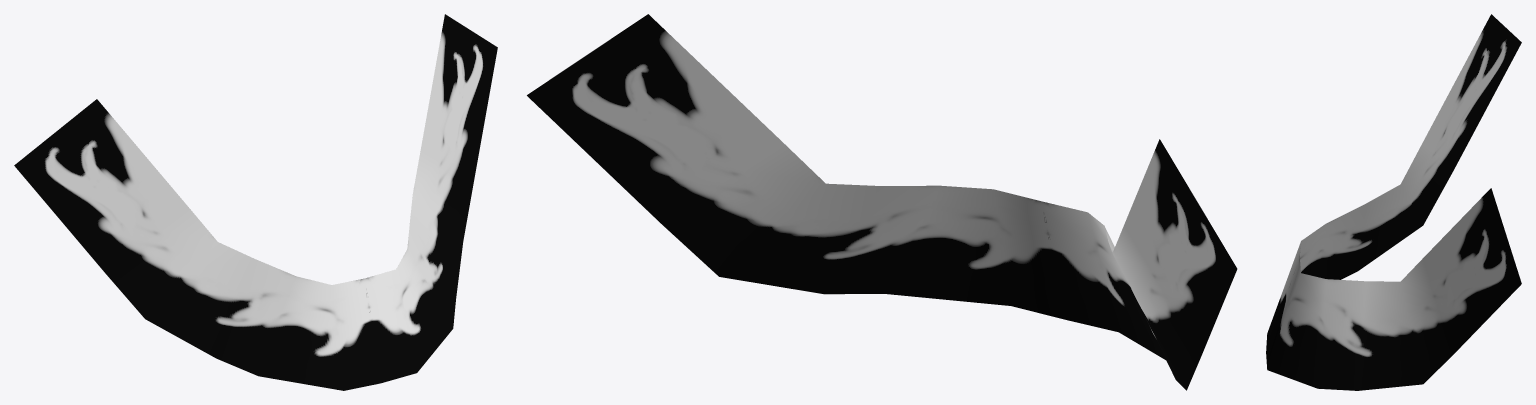
File: FxMesh_LH_beard_2.fbx
The picture shows the model from 3 angles, left to right: view 1: azimuth 30°, elevation 25°; view 2: azimuth 150°, elevation 25°; view 3: azimuth 270°, elevation 25°; orthographic projection. The views are drawn at different scales.
Visible parts, largest first — view 1: FxMesh_LH_beard_2; view 2: FxMesh_LH_beard_2; view 3: FxMesh_LH_beard_2.
Part boxes in pixels (left/top/right/bottom): FxMesh_LH_beard_2: left=14, top=14, right=497, bottom=390; FxMesh_LH_beard_2: left=527, top=14, right=1237, bottom=390; FxMesh_LH_beard_2: left=1266, top=14, right=1521, bottom=390.
Bounding box in the file's own units: 305 × 148 × 137.
1 material, 1 textured.
